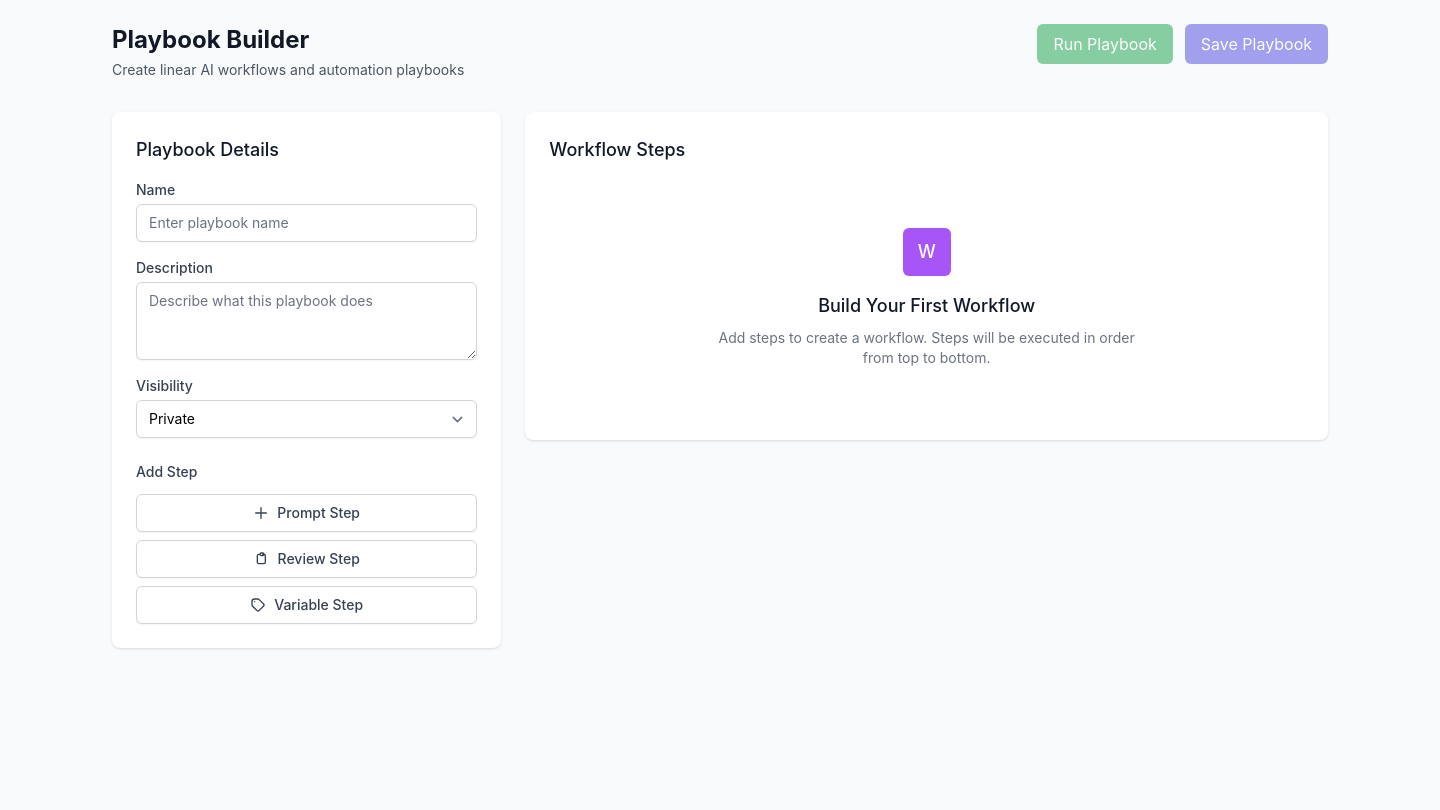
Scenario: PlaybookBuilder › should add prompt step
Click the button "Prompt Step" at (307, 513), box [136,494,477,532]
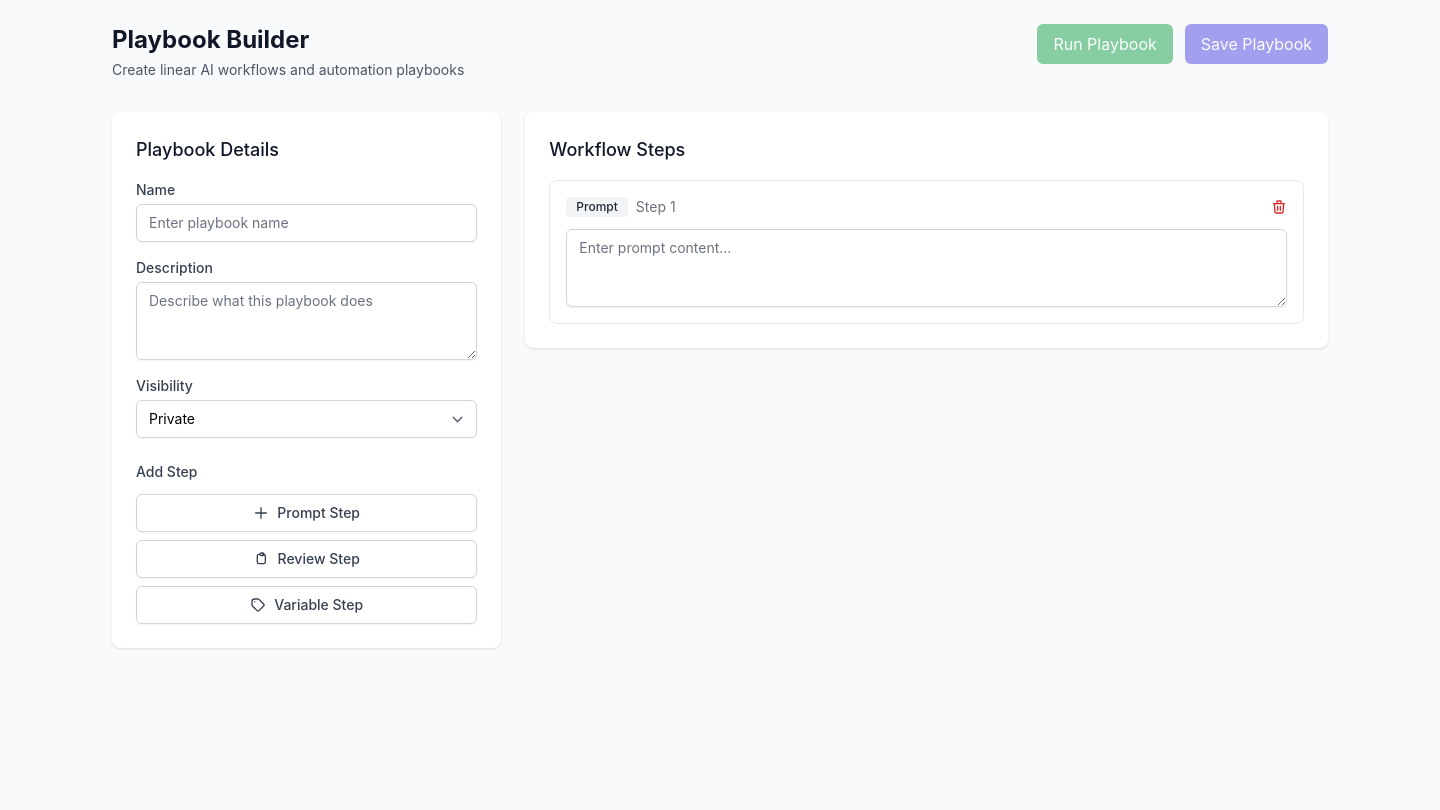
Expected: the text "Step 1" is shown, [636,197,676,217]
Expected: the text "prompt" is shown, [566,197,628,217]
